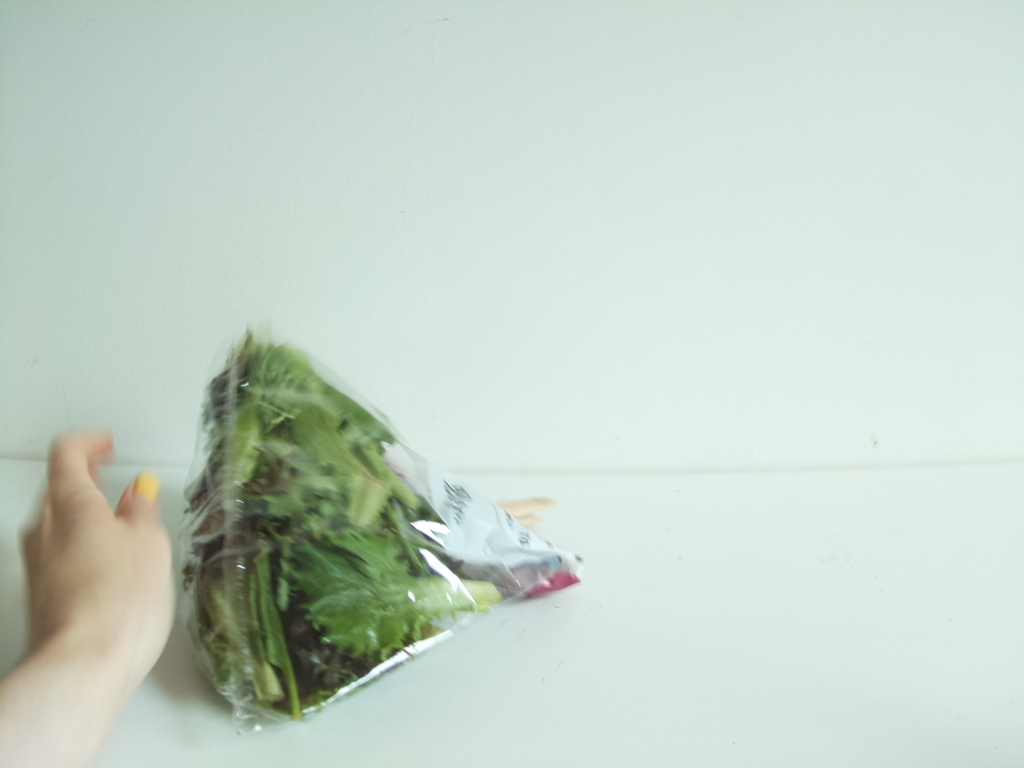salad: (187, 328, 582, 717)
